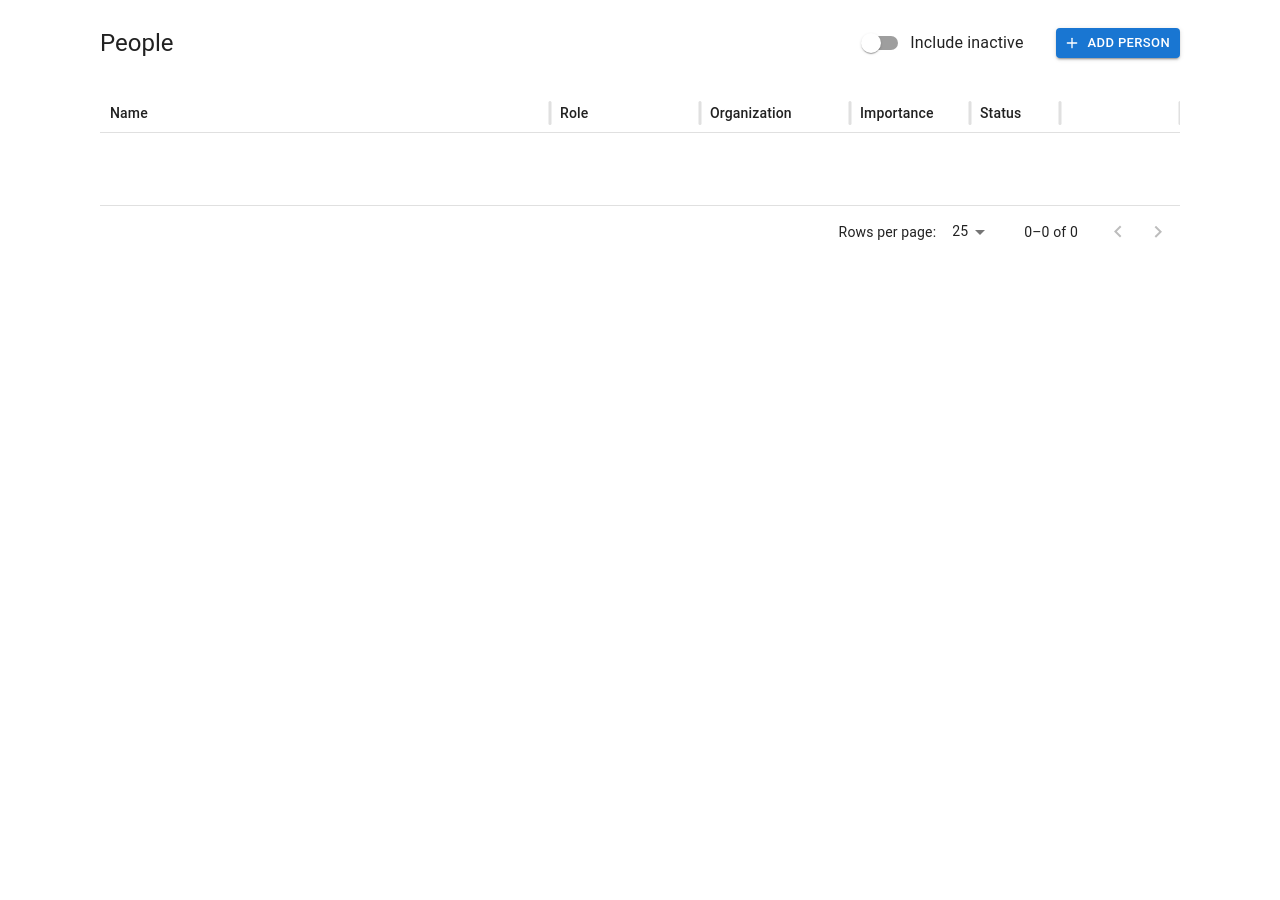
People view › opens add dialog when Add button is clicked
The width and height of the screenshot is (1280, 900).
Click the button "Add person".
click(1118, 43)  # box [1056, 28, 1180, 58]
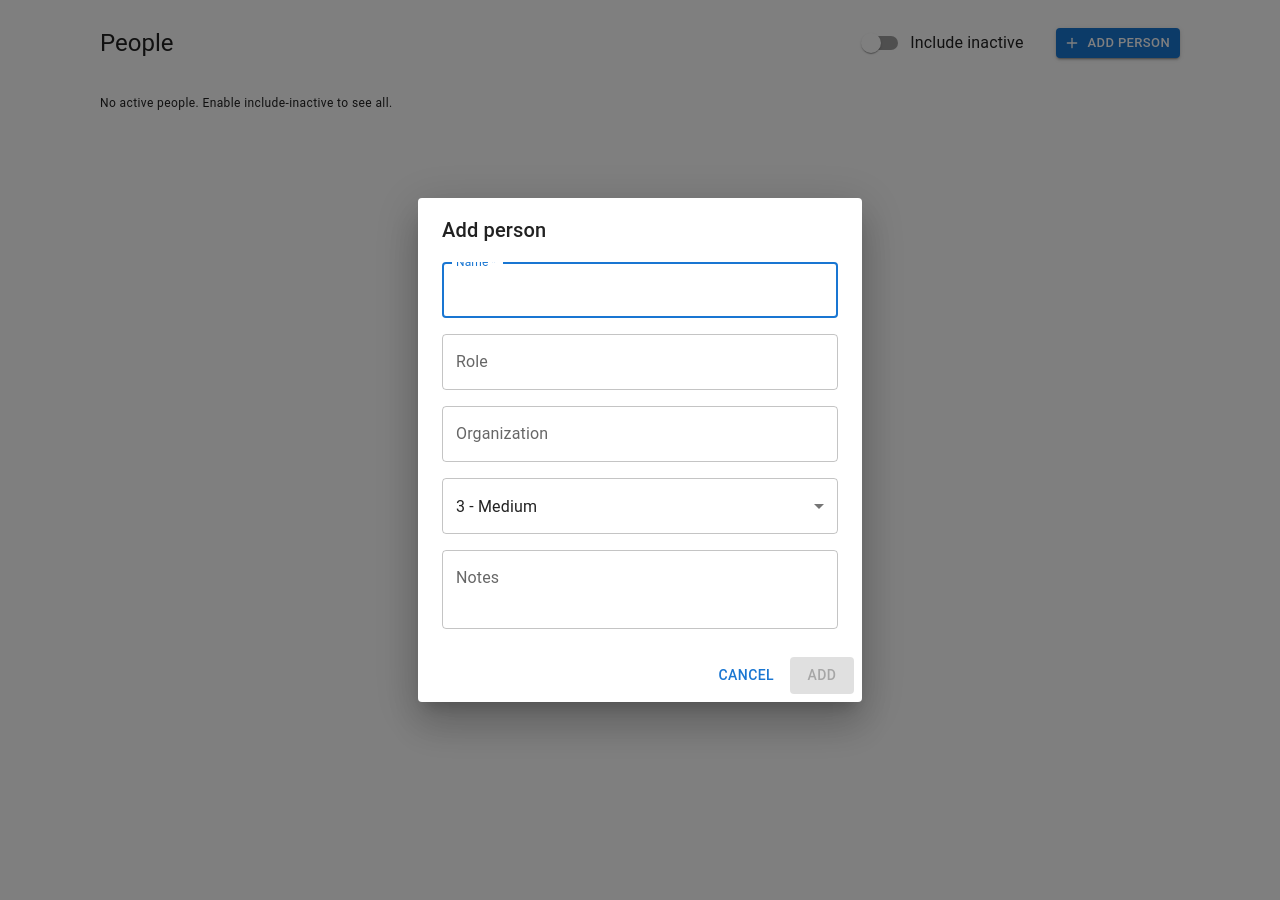
Check: the heading "Add person" is shown, box [442, 218, 546, 242]
